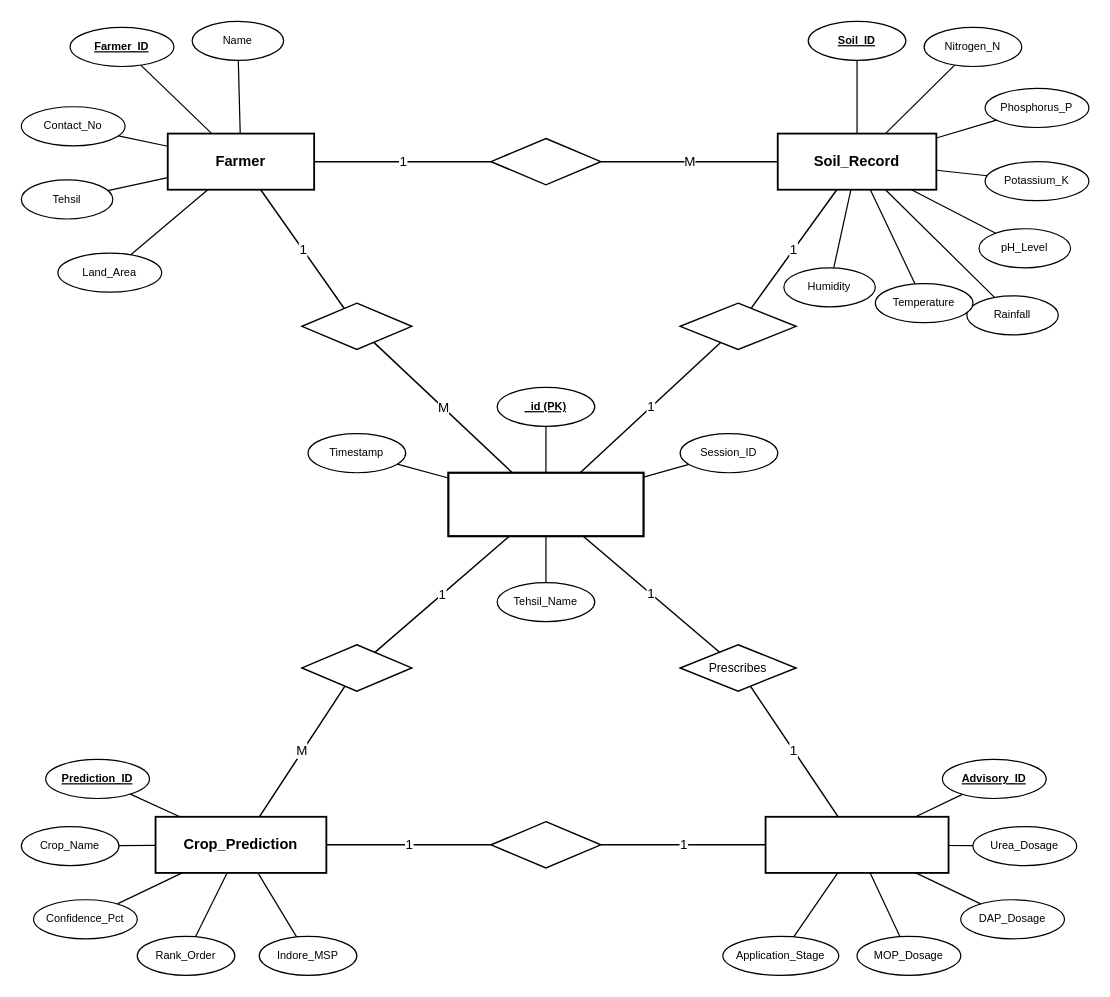
This 1110x997 diagram has some shape labels left out. The box of each missing label's shape, as (x1, y1, x2, y2) in pixels:
Analyzed_In: (679, 302, 796, 350)
Fertilizer_Advisory: (764, 815, 949, 873)
Pairs_With: (490, 820, 601, 868)
Provides: (490, 137, 601, 185)
Receives: (301, 302, 412, 350)
Recommendation (MongoDB): (447, 471, 644, 537)
Yields: (301, 643, 412, 691)
